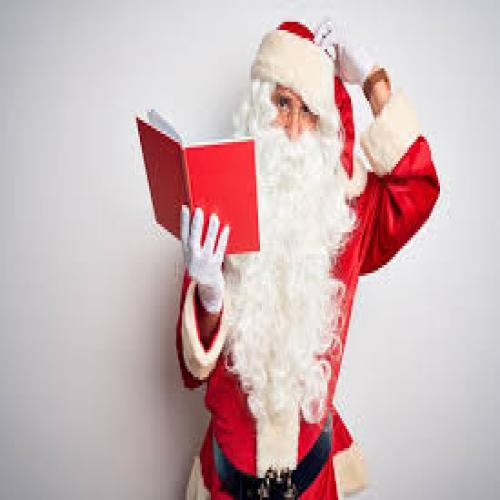Santa: (175, 17, 442, 498)
